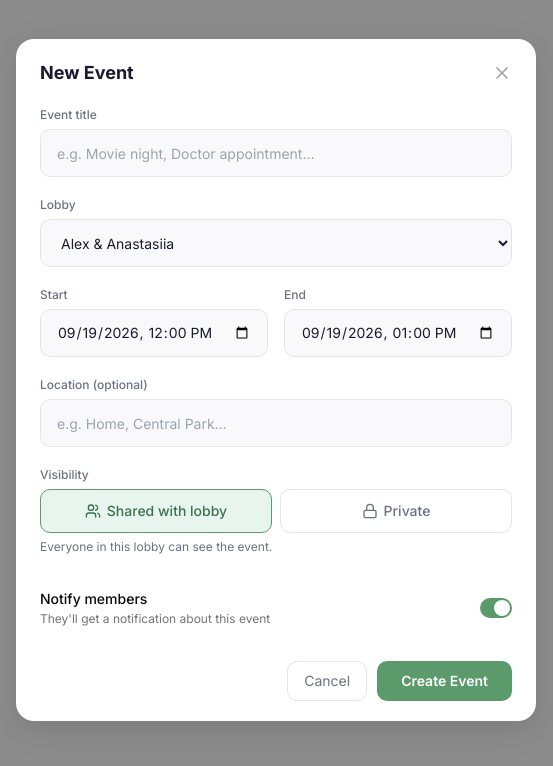
Scenario: CreateEventModal › surfaces an inline error on a 400 response
Step 1. Type "Board game night" into the field with placeholder "e.g. Movie night, Doctor appointment…" → (276, 153), box [40, 129, 512, 177]
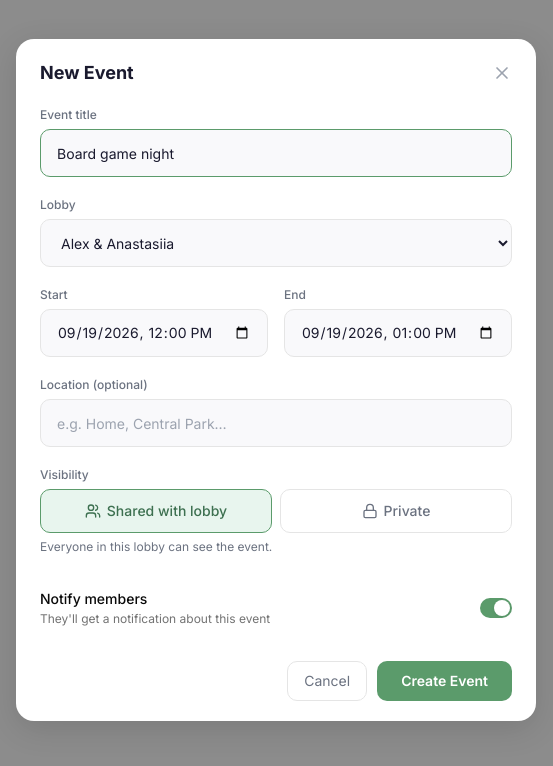
Step 2. Click the button "Create Event" → (445, 681), box [377, 661, 512, 701]
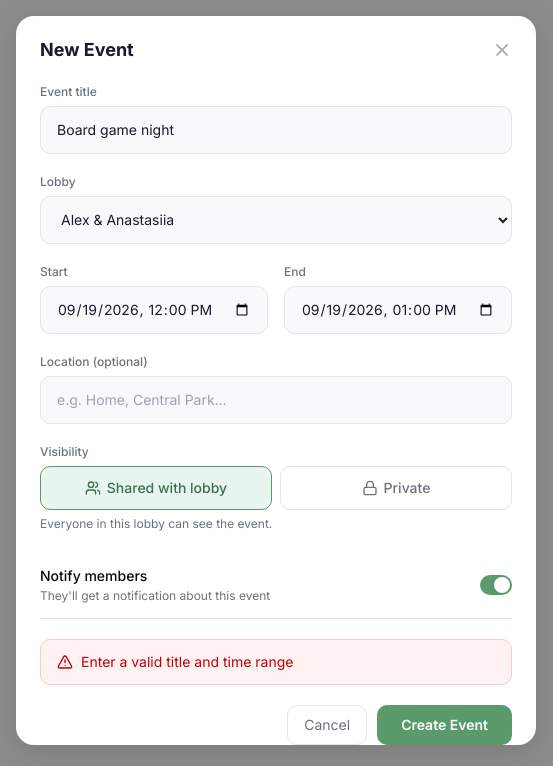
Expected: the message reads "Enter a valid title and time range", [81, 652, 293, 670]
